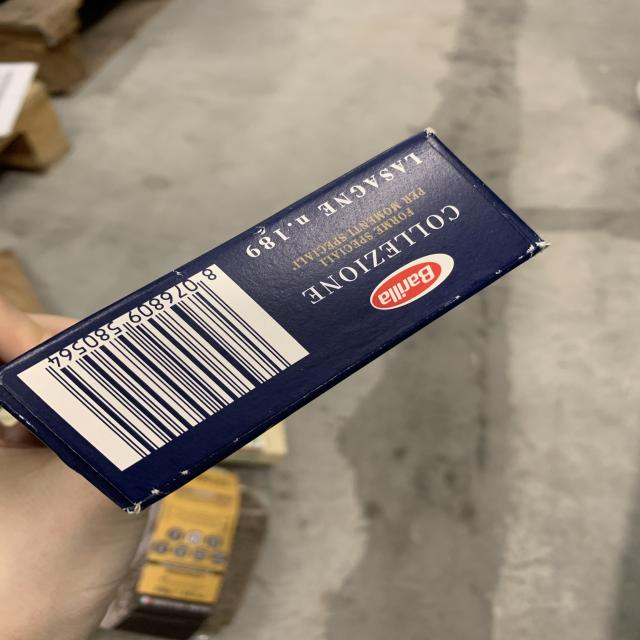object_name: (43, 153, 471, 460)
